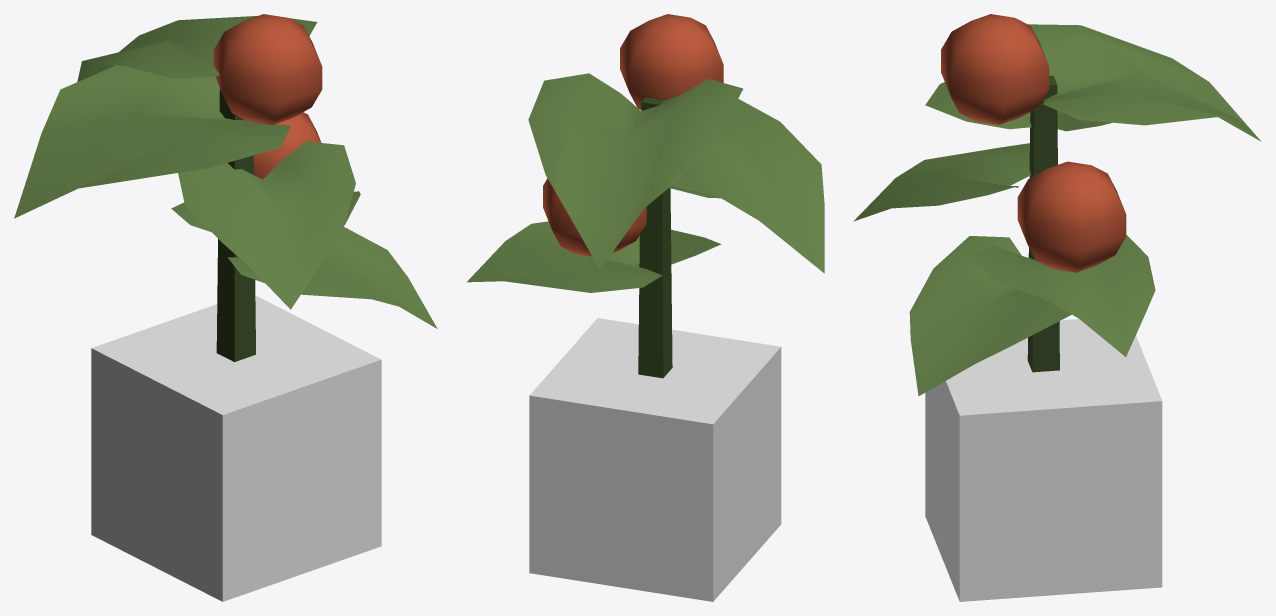
The model's file is plant2.fbx.
The picture shows the model from 3 angles, left to right: view 1: azimuth 30°, elevation 25°; view 2: azimuth 150°, elevation 25°; view 3: azimuth 270°, elevation 25°; orthographic projection. The views are drawn at different scales.
Visible parts, largest first — view 1: plant2, plant.002; view 2: plant2, plant.002; view 3: plant.002, plant2.
Part boxes in pixels (x1,y1,x2,y2): plant2: (91, 295, 381, 601); plant.002: (14, 14, 437, 361); plant2: (529, 318, 781, 601); plant.002: (467, 14, 824, 378); plant.002: (853, 14, 1261, 396); plant2: (925, 319, 1162, 601).
Bounding box in the file's own units: 82.19 × 118 × 81.58.
